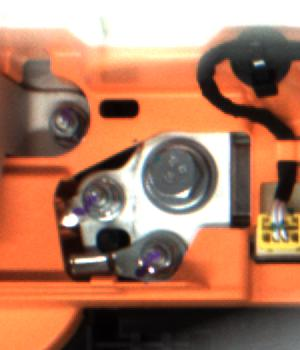nut_b: (129, 129, 221, 222)
